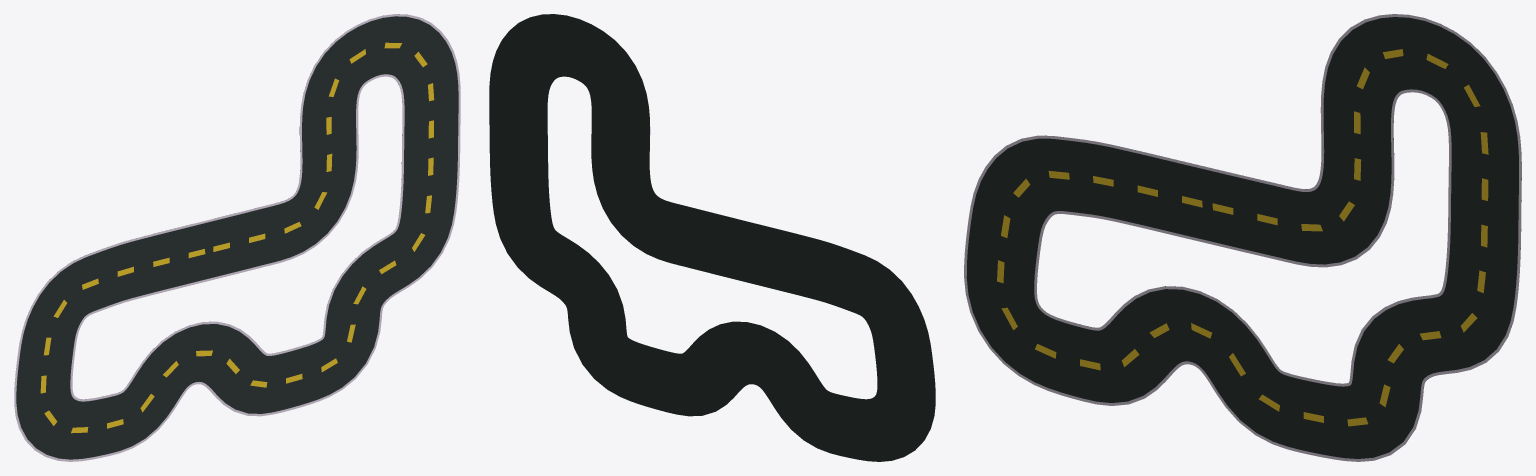
File: track.obj
3 renders of one model, left to right at view 1: azimuth 30°, elevation 25°; view 2: azimuth 150°, elevation 25°; view 3: azimuth 330°, elevation 25°, orthographic. The views are drawn at different scales.
Size of the model in its own units: 8.16 by 6.53 by 0.002.
